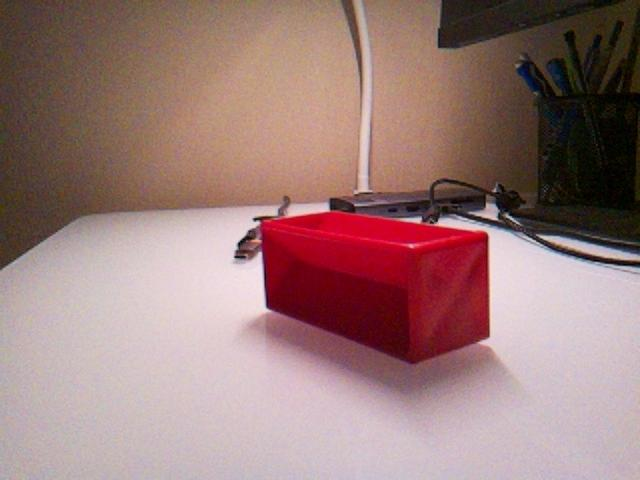red: (258, 209, 492, 365)
